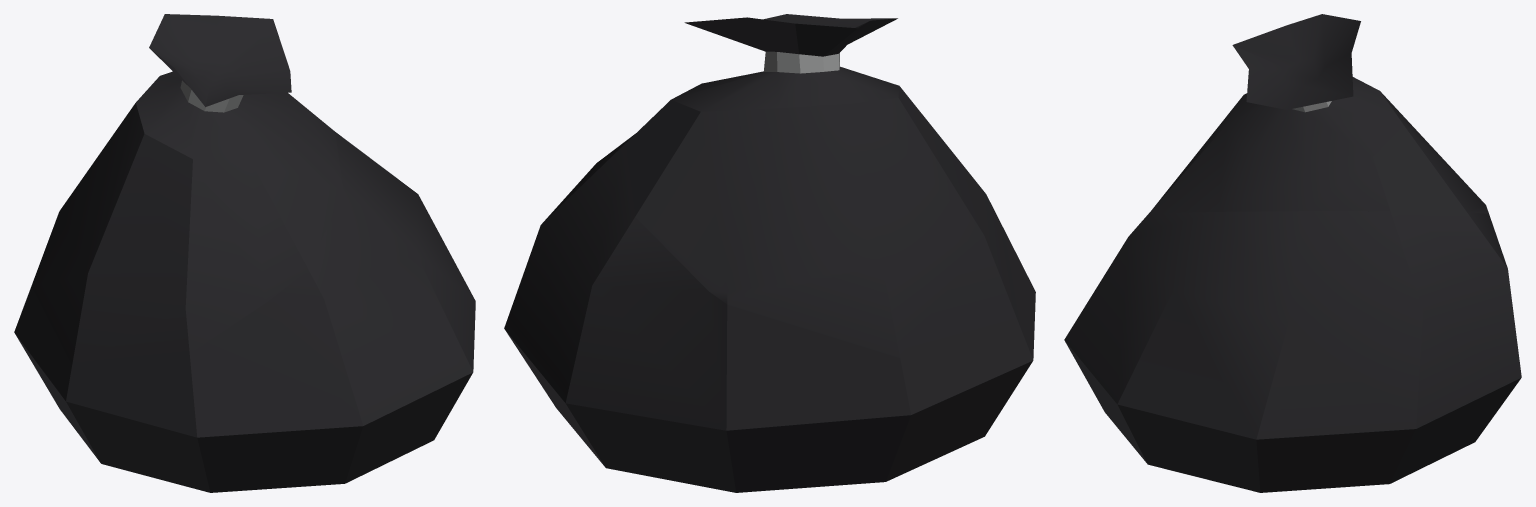
The model's file is Trash 1 Fractured.fbx.
3 renders of one model, left to right at view 1: azimuth 30°, elevation 25°; view 2: azimuth 150°, elevation 25°; view 3: azimuth 270°, elevation 25°, orthographic. The views are drawn at different scales.
Parts seen in each view (by area): view 1: Trash_01_Breaking.001, Trash_01_Breaking; view 2: Trash_01_Breaking.001, Trash_01_Breaking; view 3: Trash_01_Breaking.001, Trash_01_Breaking.
Boxes of the visible parts, bbox=[...] form: Trash_01_Breaking.001: bbox=[14, 132, 475, 492]; Trash_01_Breaking: bbox=[31, 14, 343, 365]; Trash_01_Breaking.001: bbox=[504, 133, 1035, 492]; Trash_01_Breaking: bbox=[625, 14, 1019, 357]; Trash_01_Breaking.001: bbox=[1064, 211, 1521, 492]; Trash_01_Breaking: bbox=[1149, 14, 1488, 213].
Bounding box in the file's own units: 65.26 × 57.93 × 65.08.
